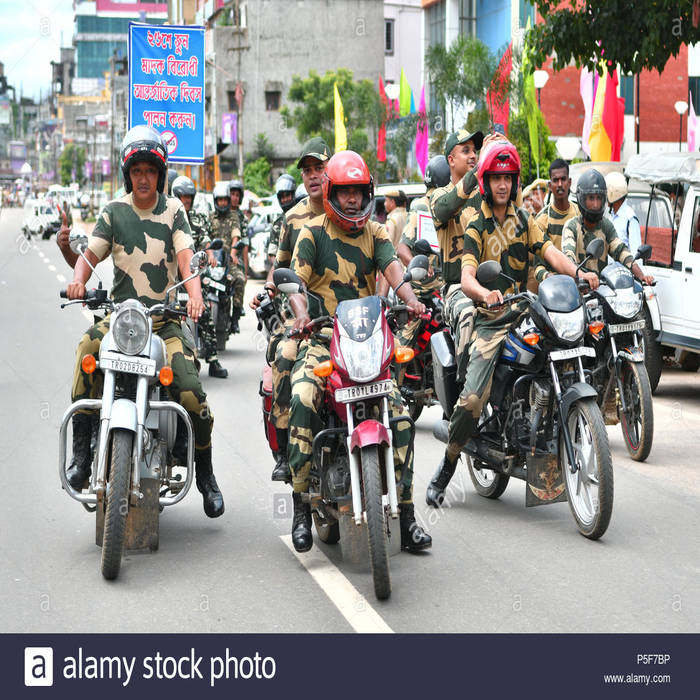h: (319, 148, 377, 232), (478, 136, 521, 205), (120, 124, 167, 182), (575, 171, 607, 225), (424, 153, 448, 192), (173, 176, 198, 208), (274, 172, 295, 210), (607, 170, 629, 205), (211, 184, 230, 217)
n: (98, 349, 158, 378), (333, 379, 394, 403), (547, 346, 602, 365), (607, 318, 647, 337)
